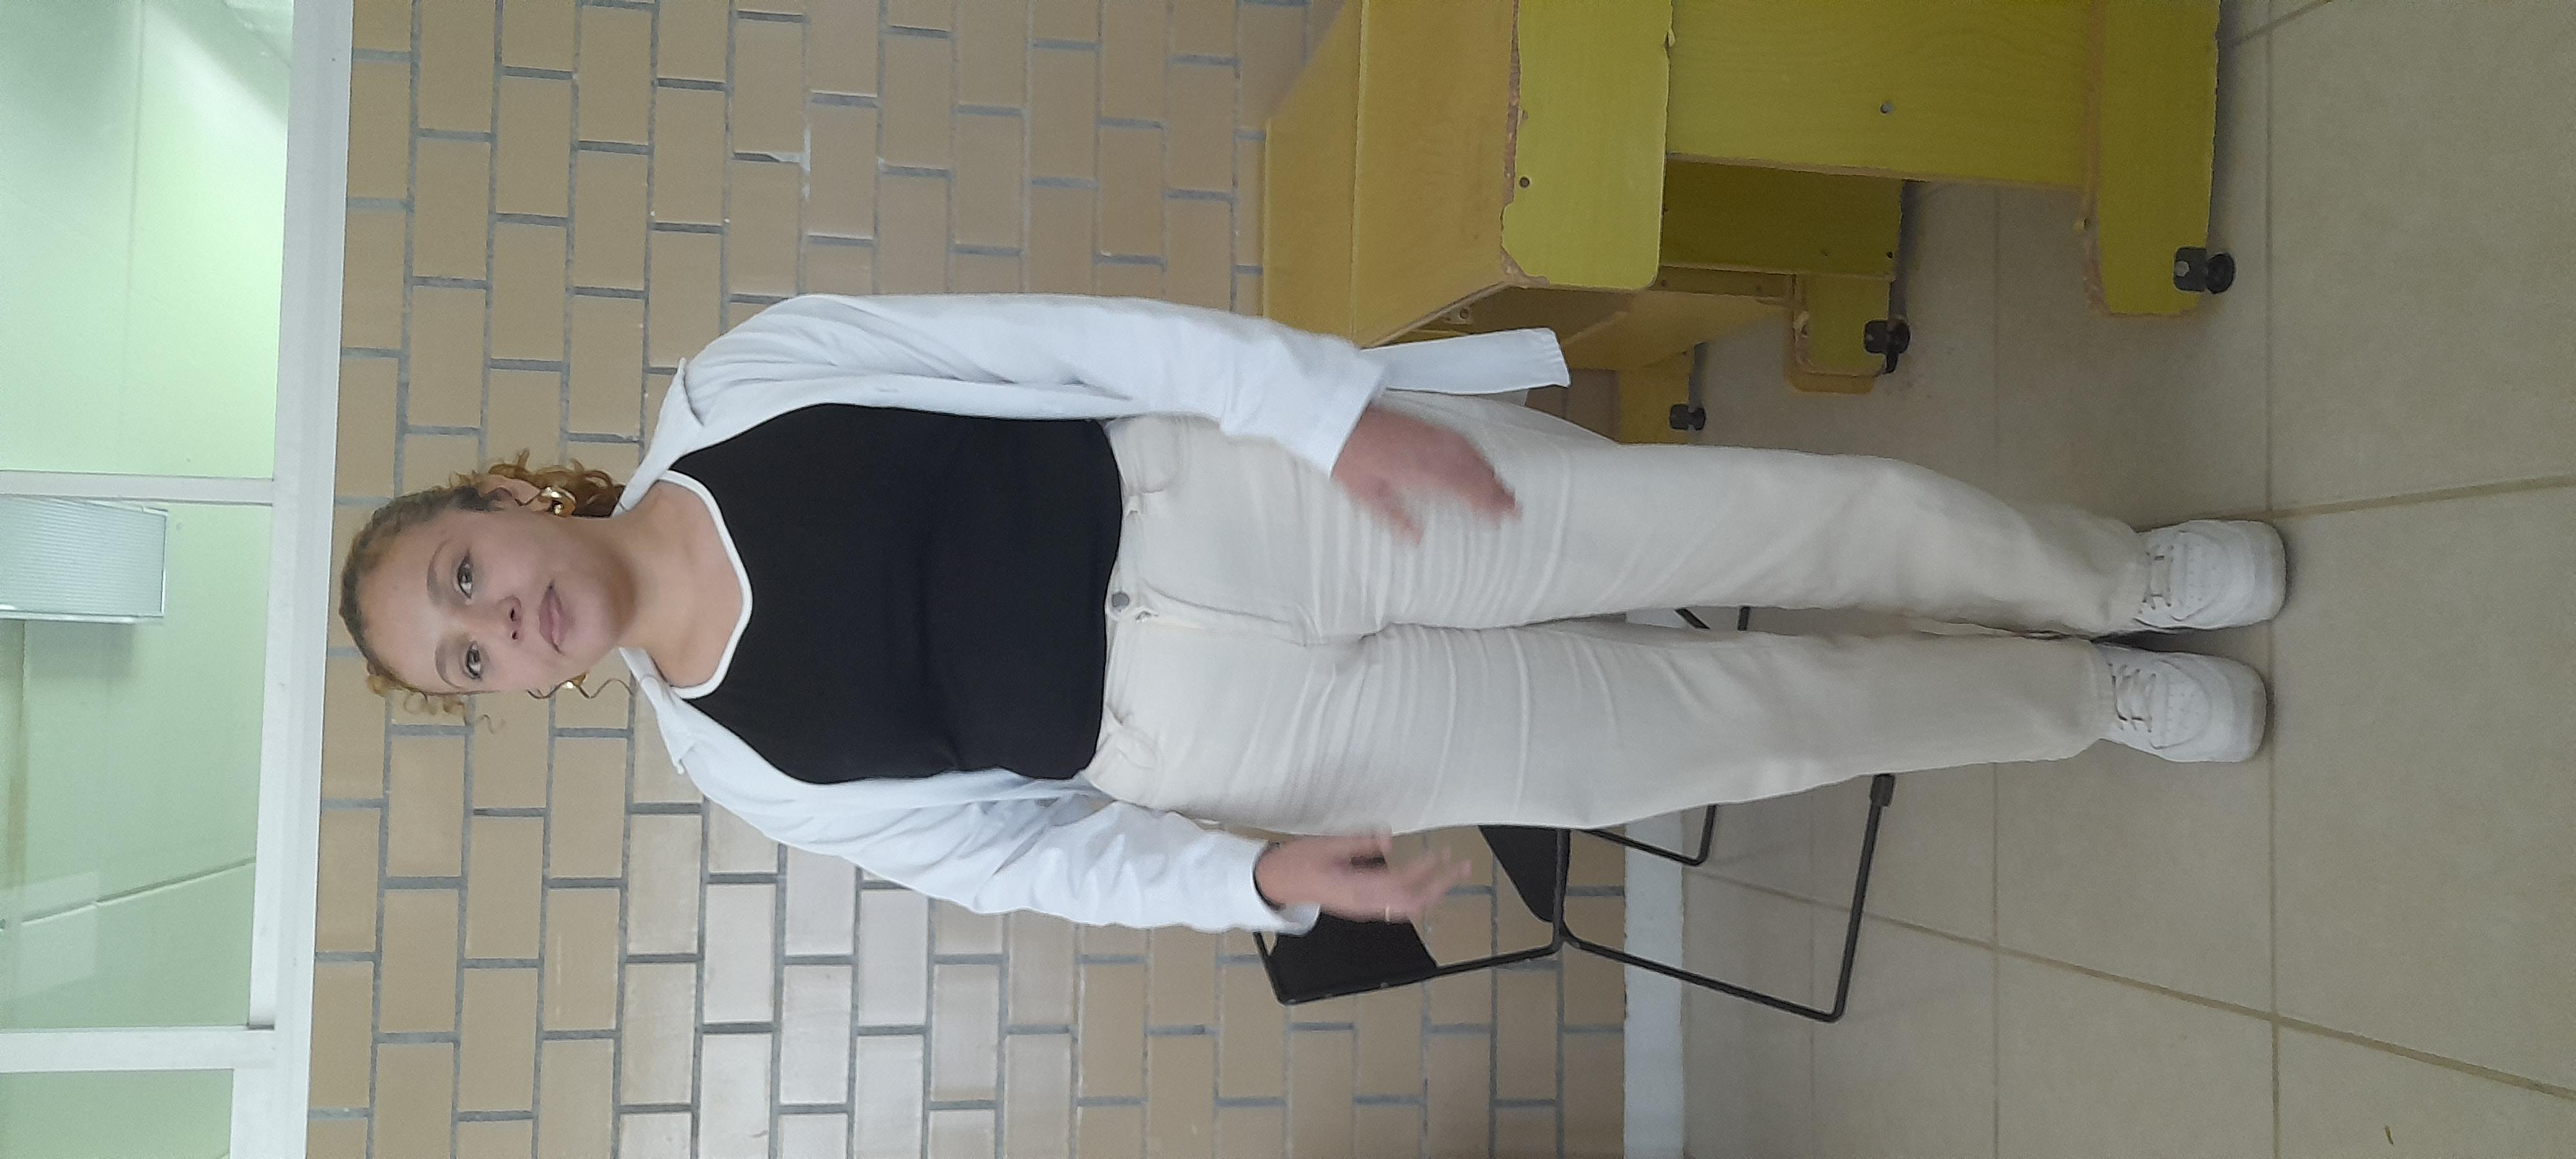Bata-Incorrecta: (444, 130, 1960, 1052)
